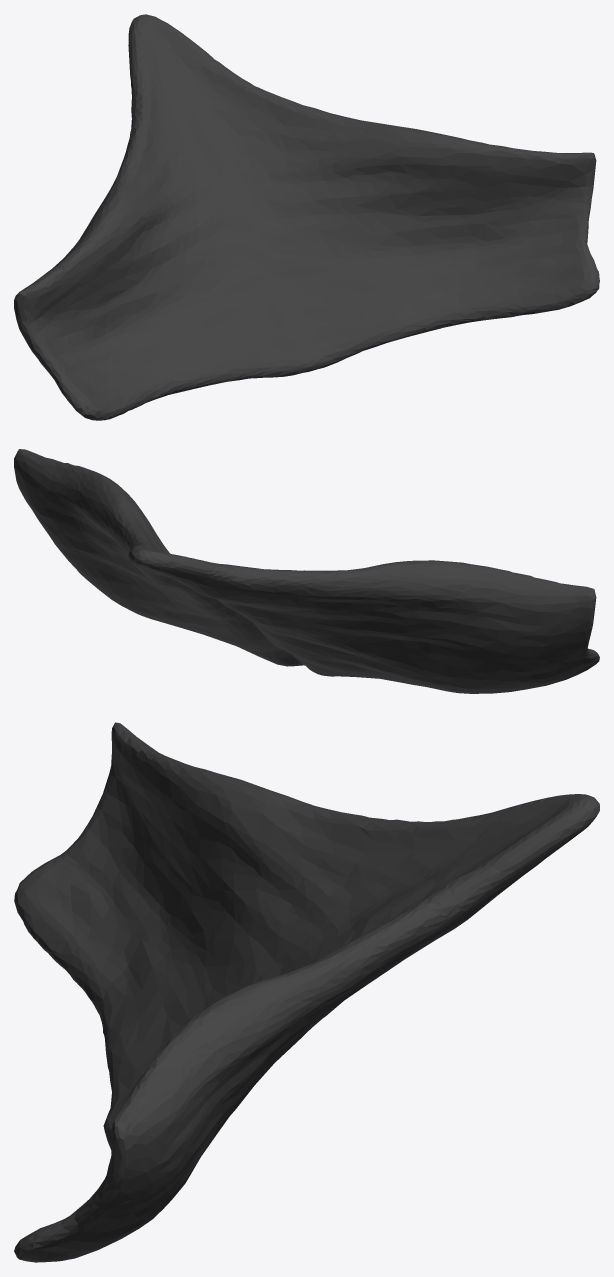
The model's file is m_cervicoauricularis_superficialis.glb.
3 views of the same model, one above another, from view 1: azimuth 30°, elevation 25°; view 2: azimuth 150°, elevation 25°; view 3: azimuth 270°, elevation 25° (orthographic). The views are drawn at different scales.
Parts seen in each view (by area): view 1: m_cervicoauricularis_superficialis; view 2: m_cervicoauricularis_superficialis; view 3: m_cervicoauricularis_superficialis.
Part boxes in pixels (x1=…): m_cervicoauricularis_superficialis: x1=14, y1=14, x2=599, y2=420; m_cervicoauricularis_superficialis: x1=14, y1=449, x2=599, y2=693; m_cervicoauricularis_superficialis: x1=14, y1=722, x2=599, y2=1262.
Bounding box in the file's own units: 0.00228 × 0.00089 × 0.00138.
1 material, 1 textured.
